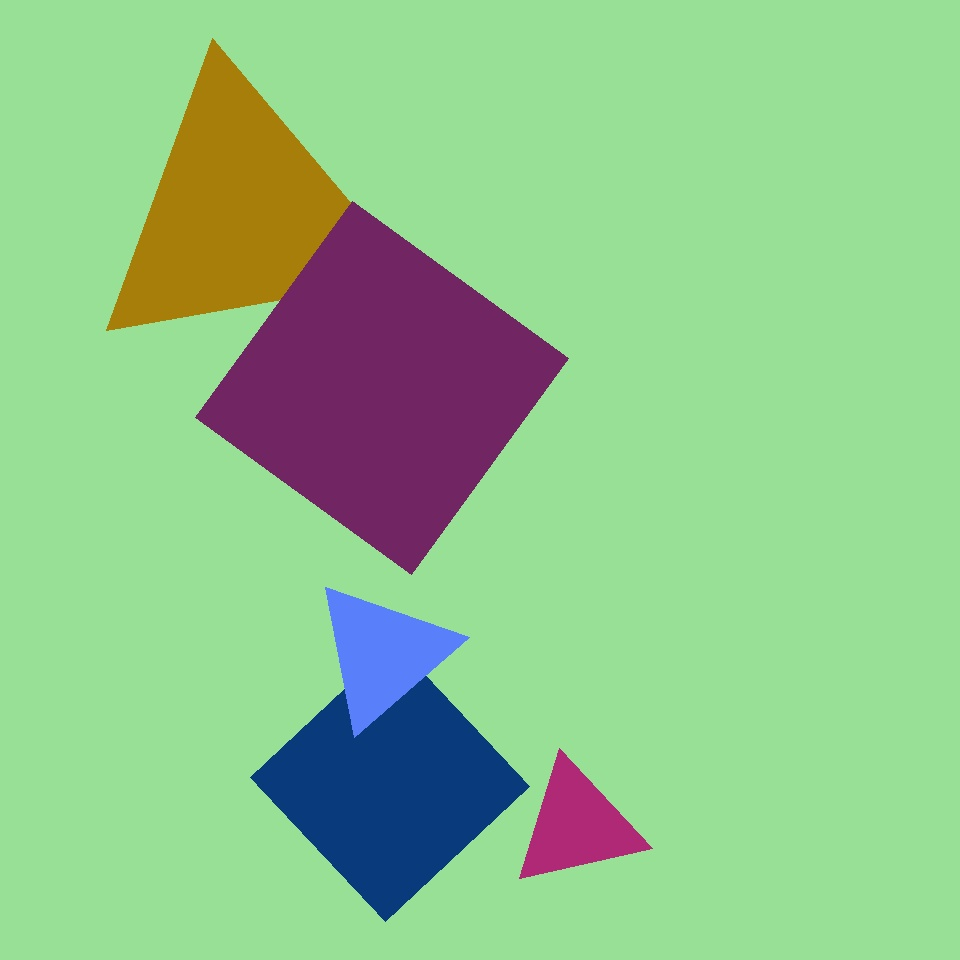circle: (91, 69, 397, 361), (311, 579, 455, 729), (510, 760, 644, 890)
square: (195, 202, 568, 574), (250, 642, 530, 922)
